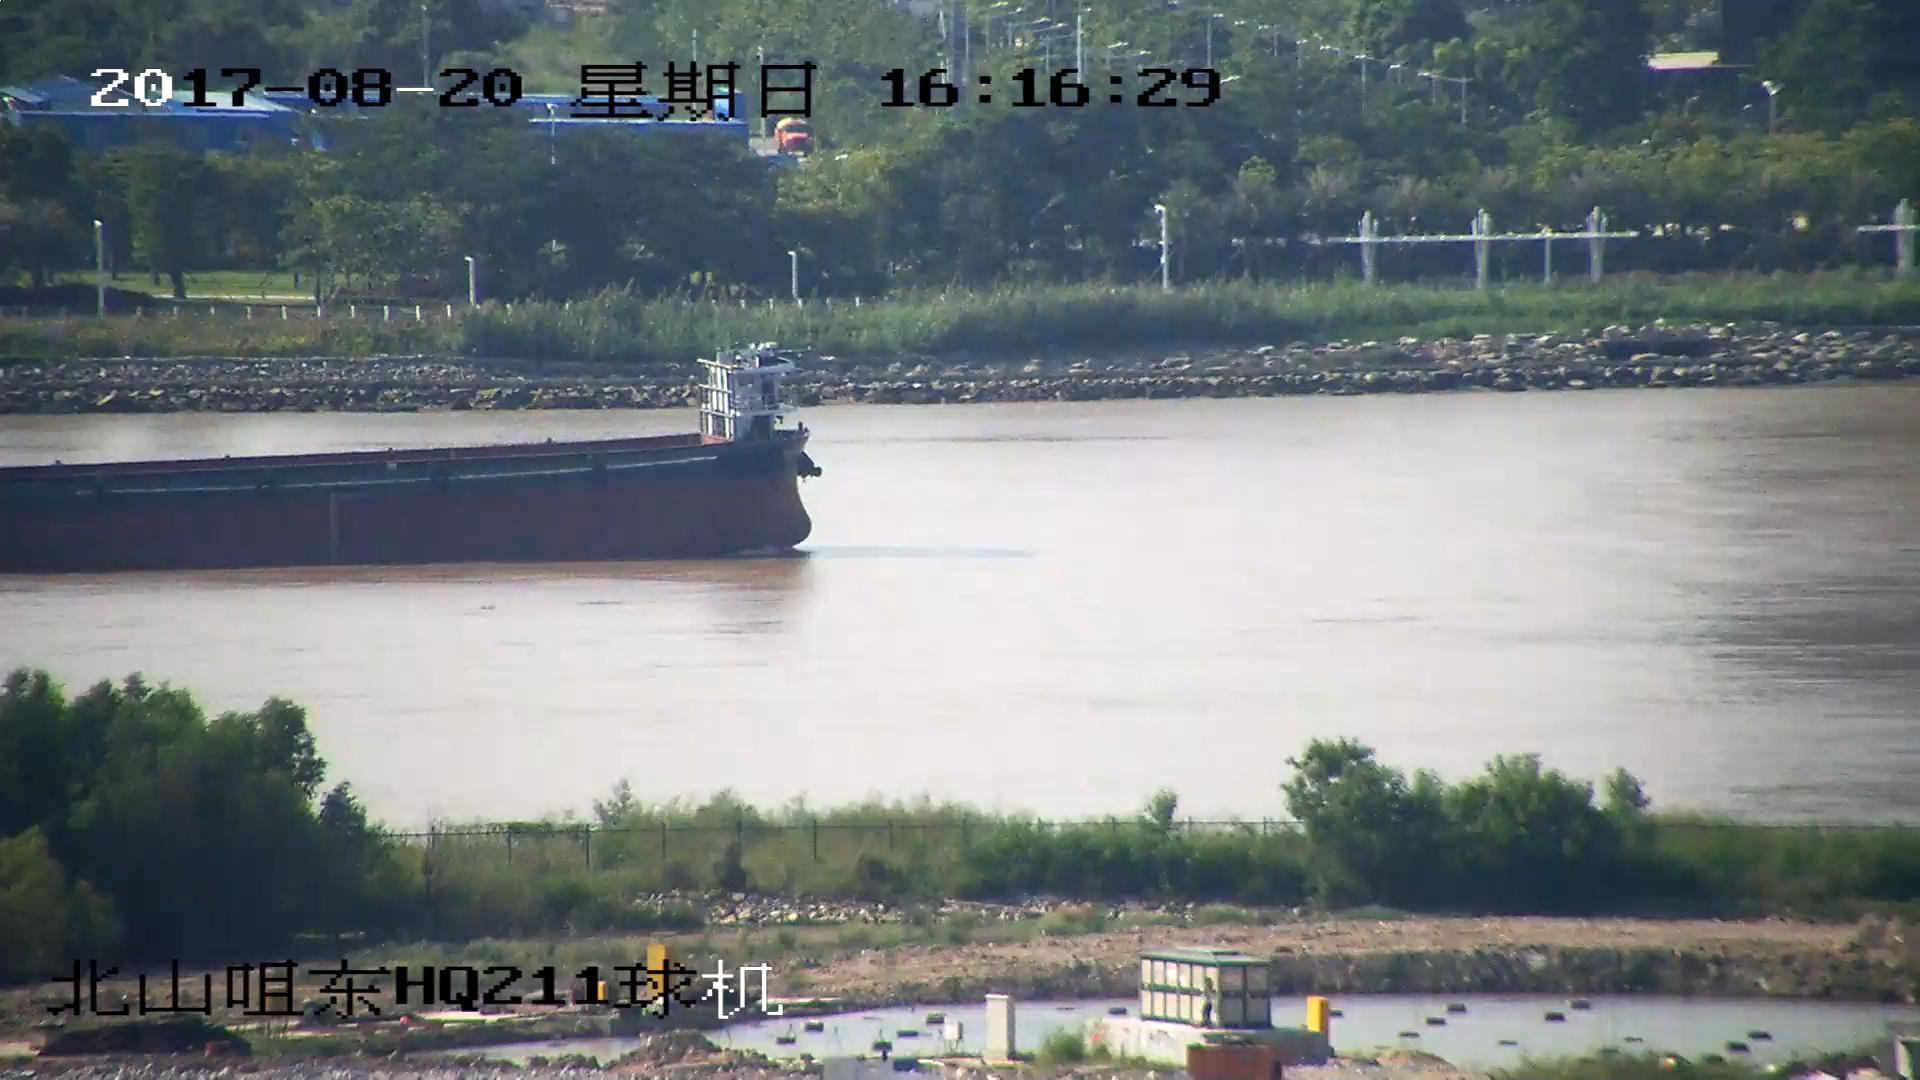general cargo ship: (1, 345, 835, 560)
